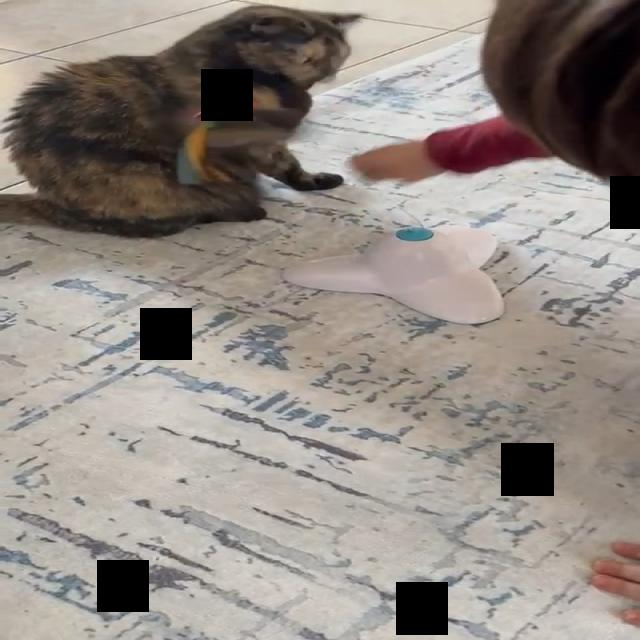authorized: (0, 4, 364, 238)
